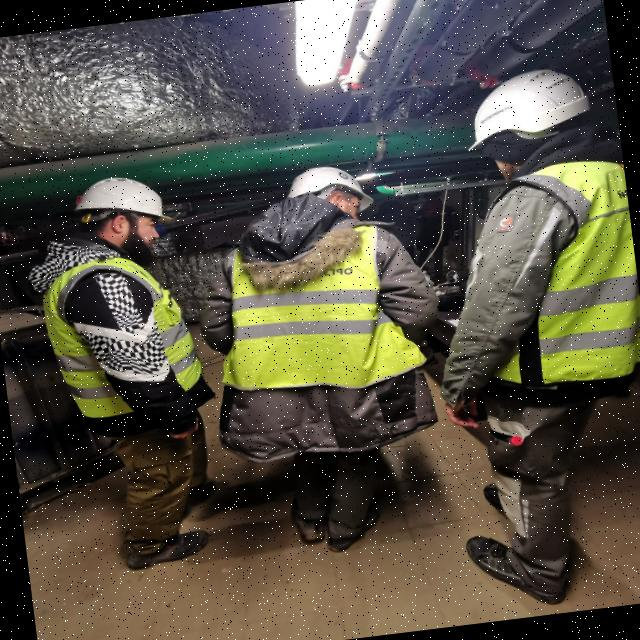Helmet: (460, 66, 597, 151), (67, 170, 176, 239), (283, 160, 380, 217)
Jacket: (460, 136, 640, 408), (227, 202, 421, 411), (46, 227, 206, 439)
